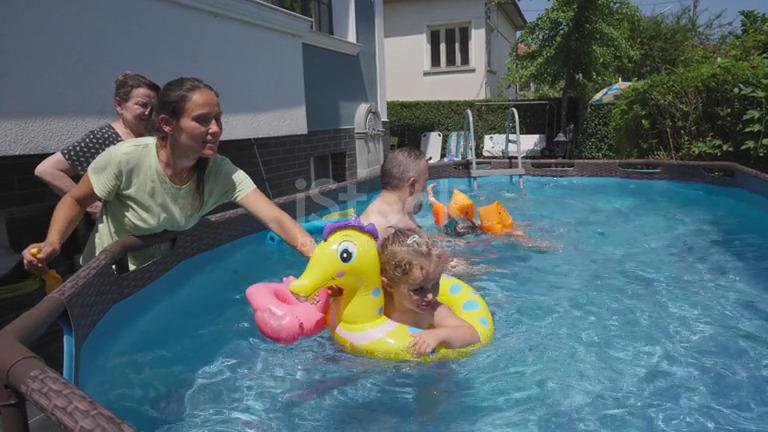Swimming: (202, 244, 521, 363)
